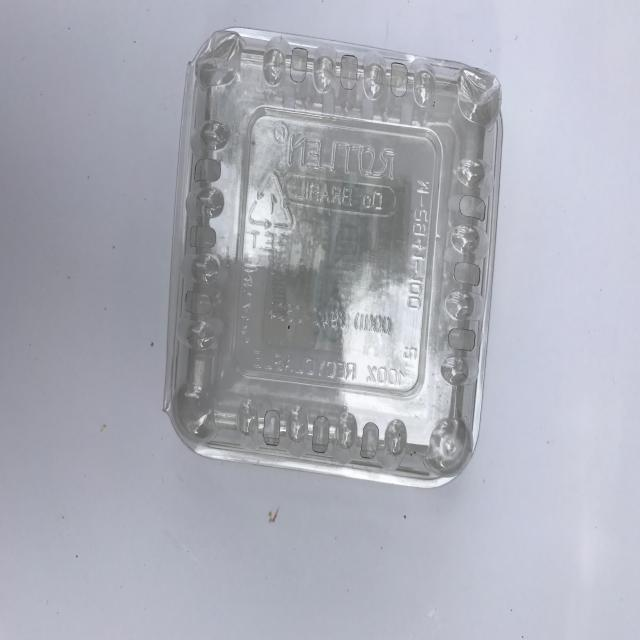plastic: (162, 28, 504, 488)
